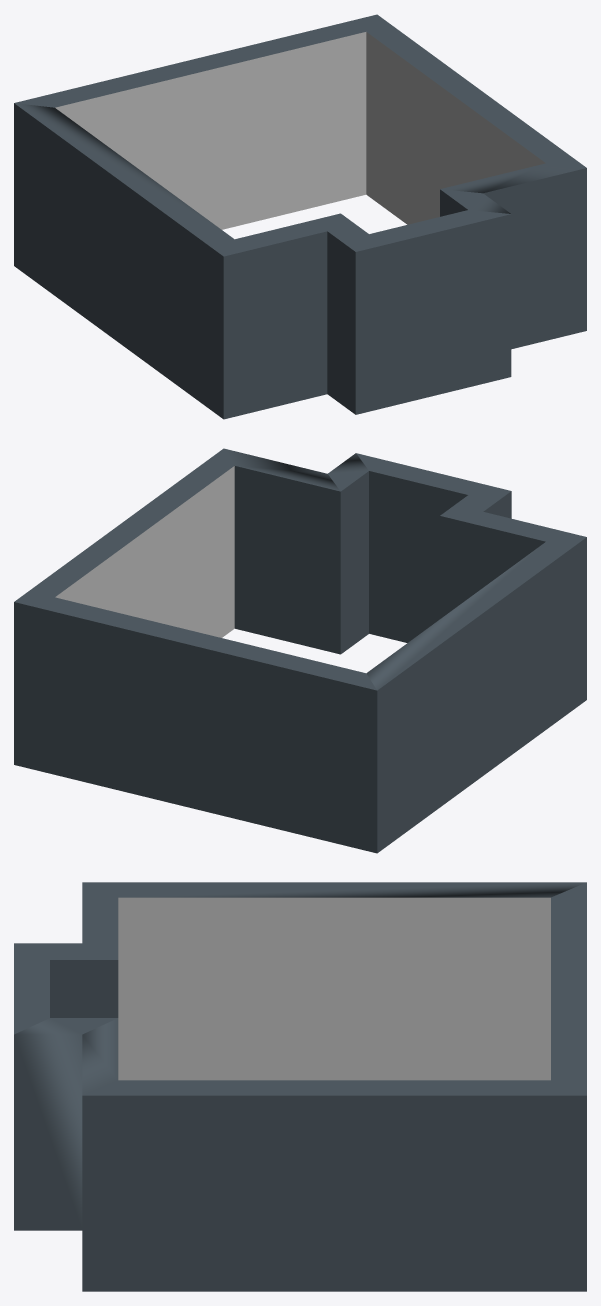
File: Room01_col.FBX
The picture shows the model from 3 angles, top to bottom: view 1: azimuth 30°, elevation 25°; view 2: azimuth 150°, elevation 25°; view 3: azimuth 270°, elevation 25°; orthographic projection. The views are drawn at different scales.
Parts seen in each view (by area): view 1: Room01_col; view 2: Room01_col; view 3: Room01_col.
Part boxes in pixels (bbox=[...]): Room01_col: bbox=[14, 14, 586, 419]; Room01_col: bbox=[14, 448, 586, 853]; Room01_col: bbox=[14, 882, 586, 1291].
Bounding box in the file's own units: 700 × 300 × 795.
